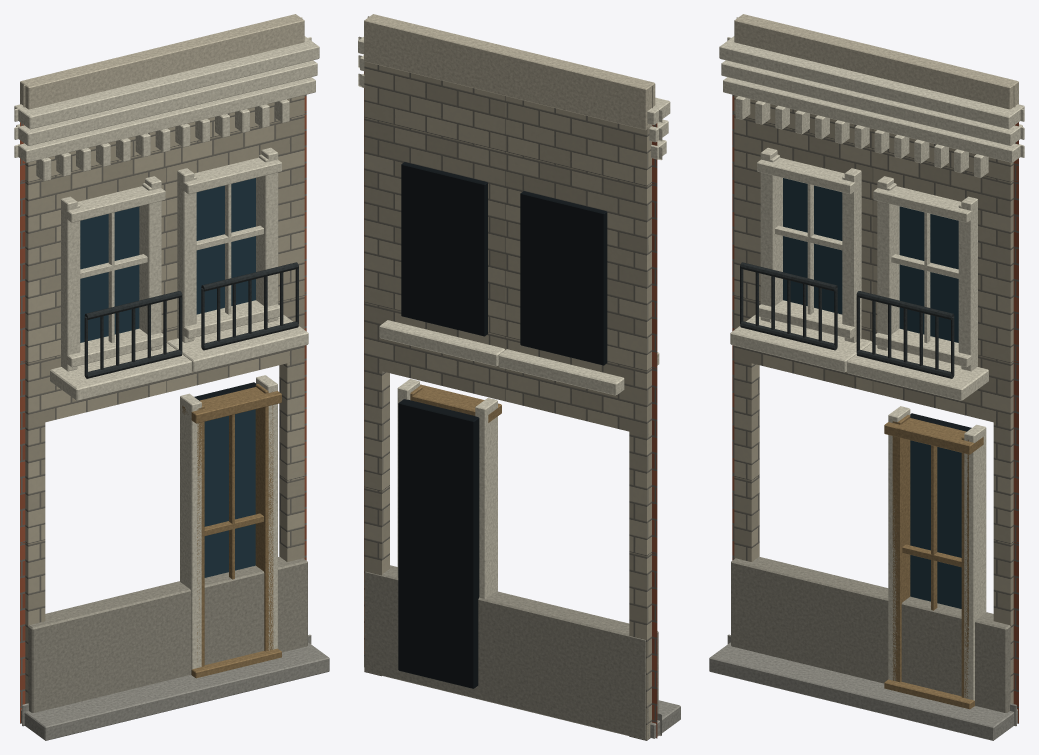
File: RUNDWN15_lod1.glb
The picture shows the model from 3 angles, left to right: view 1: azimuth 30°, elevation 25°; view 2: azimuth 150°, elevation 25°; view 3: azimuth 330°, elevation 25°; orthographic projection. The views are drawn at different scales.
Parts seen in each view (by area): view 1: RUNDWN15_FRONT_LOD1; view 2: RUNDWN15_FRONT_LOD1; view 3: RUNDWN15_FRONT_LOD1.
Part boxes in pixels (x1=…): RUNDWN15_FRONT_LOD1: x1=14, y1=14, x2=329, y2=740; RUNDWN15_FRONT_LOD1: x1=358, y1=14, x2=680, y2=740; RUNDWN15_FRONT_LOD1: x1=709, y1=14, x2=1024, y2=740.
Size of the model in its own units: 3.44 by 7.05 by 0.8592.
11 materials, 9 textured.
